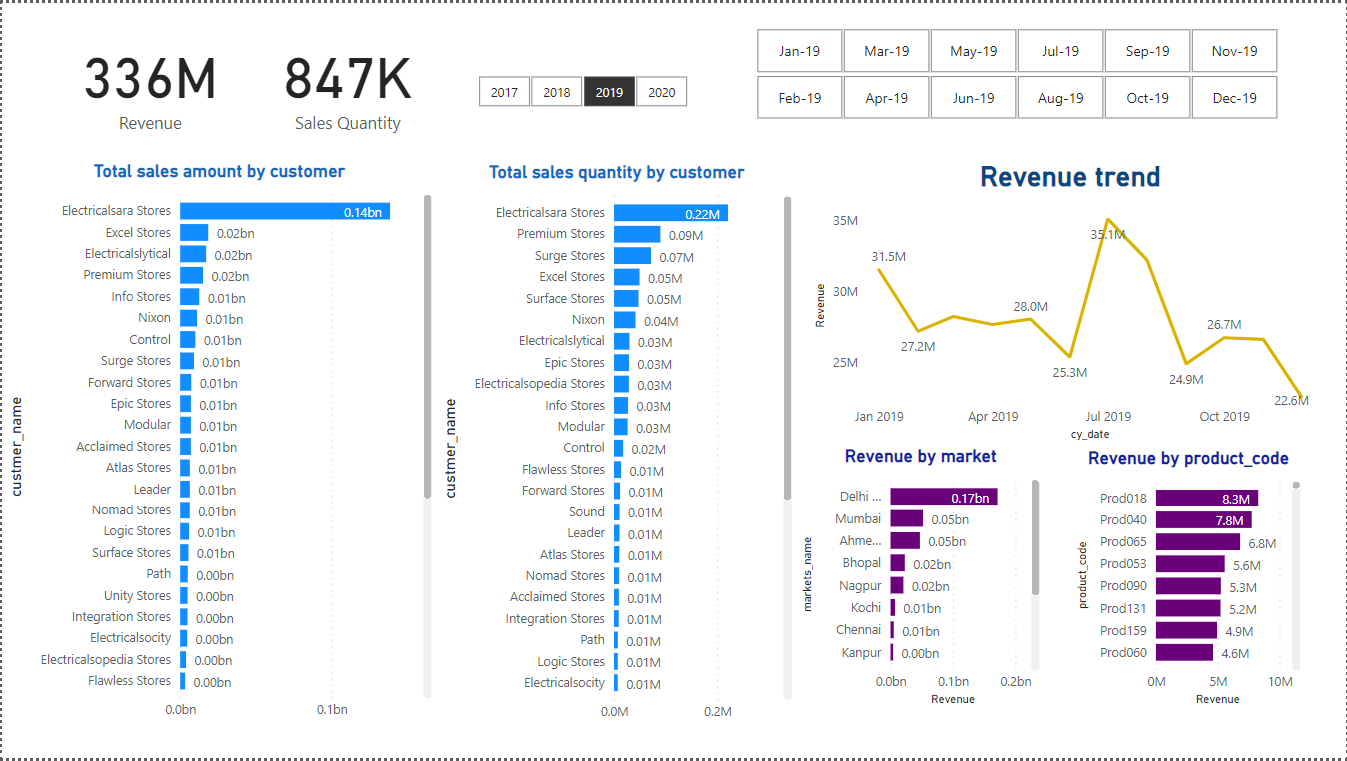

The page's visual inventory and layout, read from the dashboard file:
{"tool":"powerbi","page":{"name":"Page 1","canvas":[1280,720],"ordinal":0},"visuals":[{"type":"card","fields":{"Values":["BaseMeasures.total_sales_qty"]},"box":[245.7,18.6,168.6,114.3],"z":0},{"type":"barChart","title":"Total sales amount by customer","fields":{"Y":["BaseMeasures.total_sales_amount"],"Category":["sales customers.custmer_name"]},"box":[0,150,414,542],"z":2000},{"type":"barChart","title":"Total sales quantity by customer","fields":{"Y":["BaseMeasures.total_sales_qty"],"Category":["sales customers.custmer_name"]},"box":[414,152,344,542],"z":3000},{"type":"slicer","fields":{"Values":["sales date.year"]},"box":[428,64,248,42],"z":3001},{"type":"slicer","fields":{"Values":["sales date.cy_date"]},"box":[693.3,18.3,545,98.3],"z":3002},{"type":"barChart","title":"Revenue by market","fields":{"Y":["BaseMeasures.Revenue"],"Category":["sales markets.markets_name"]},"box":[756.7,421.7,236.7,253.3],"z":3004},{"type":"card","fields":{"Values":["BaseMeasures.Revenue"]},"box":[18.6,0,245.7,150],"z":3005},{"type":"barChart","fields":{"Y":["BaseMeasures.Revenue"],"Category":["sales products.product_code"]},"box":[1018.3,423.3,223.3,251.7],"z":3006},{"type":"lineChart","title":"Revenue trend","fields":{"Y":["BaseMeasures.Revenue"],"Category":["sales date.cy_date"]},"box":[768.3,150,498.3,271.7],"z":3007}]}

Visuals, with their boxes in screenshot pixels (x1, y1, x2, y2), scaled from the page's 1280x720 canvas onto the 1347x761 screenshot:
card - BaseMeasures.total_sales_qty: 259 20 436 140
"Total sales amount by customer" barChart: 0 159 436 731
"Total sales quantity by customer" barChart: 436 161 798 734
slicer - sales date.year: 450 68 711 112
slicer - sales date.cy_date: 730 19 1303 123
"Revenue by market" barChart: 796 446 1045 713
card - BaseMeasures.Revenue: 20 0 278 159
barChart - BaseMeasures.Revenue x sales products.product_code: 1072 447 1307 713
"Revenue trend" lineChart: 809 159 1333 446
